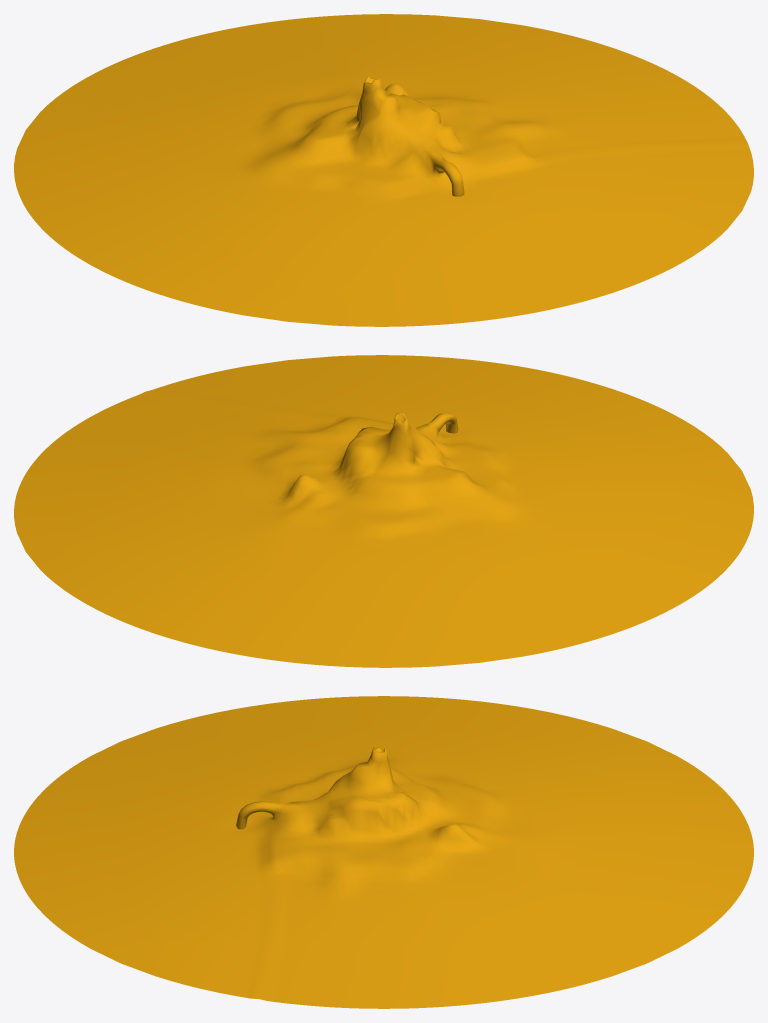
Rendered from isla.fbx.
3 renders of one model, top to bottom at view 1: azimuth 30°, elevation 25°; view 2: azimuth 150°, elevation 25°; view 3: azimuth 270°, elevation 25°, orthographic.
Parts seen in each view (by area): view 1: isla; view 2: isla; view 3: isla.
Part boxes in pixels (box(x1,y1,x2,y2)): isla: box(14, 14, 753, 326); isla: box(14, 355, 753, 667); isla: box(14, 696, 753, 1008).
Size of the model in its own units: 29692 by 4343 by 29693.
